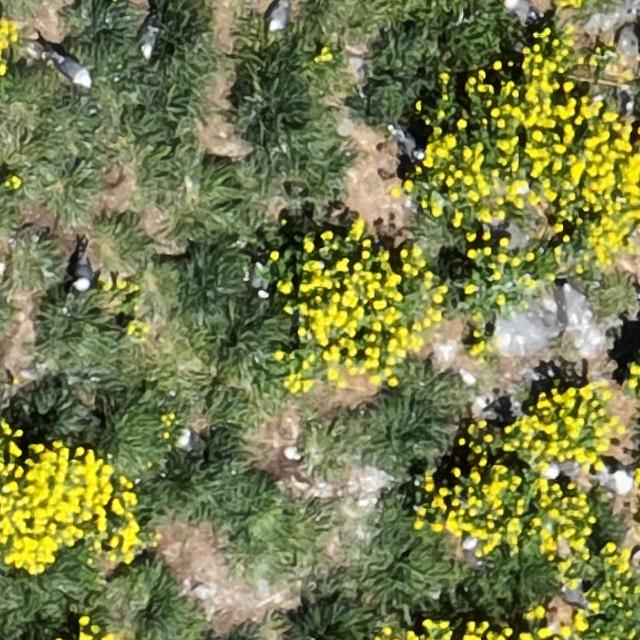umineko: (56, 56, 90, 84), (504, 0, 534, 21), (75, 256, 93, 290), (269, 2, 288, 32), (140, 23, 156, 57), (547, 462, 579, 479)
